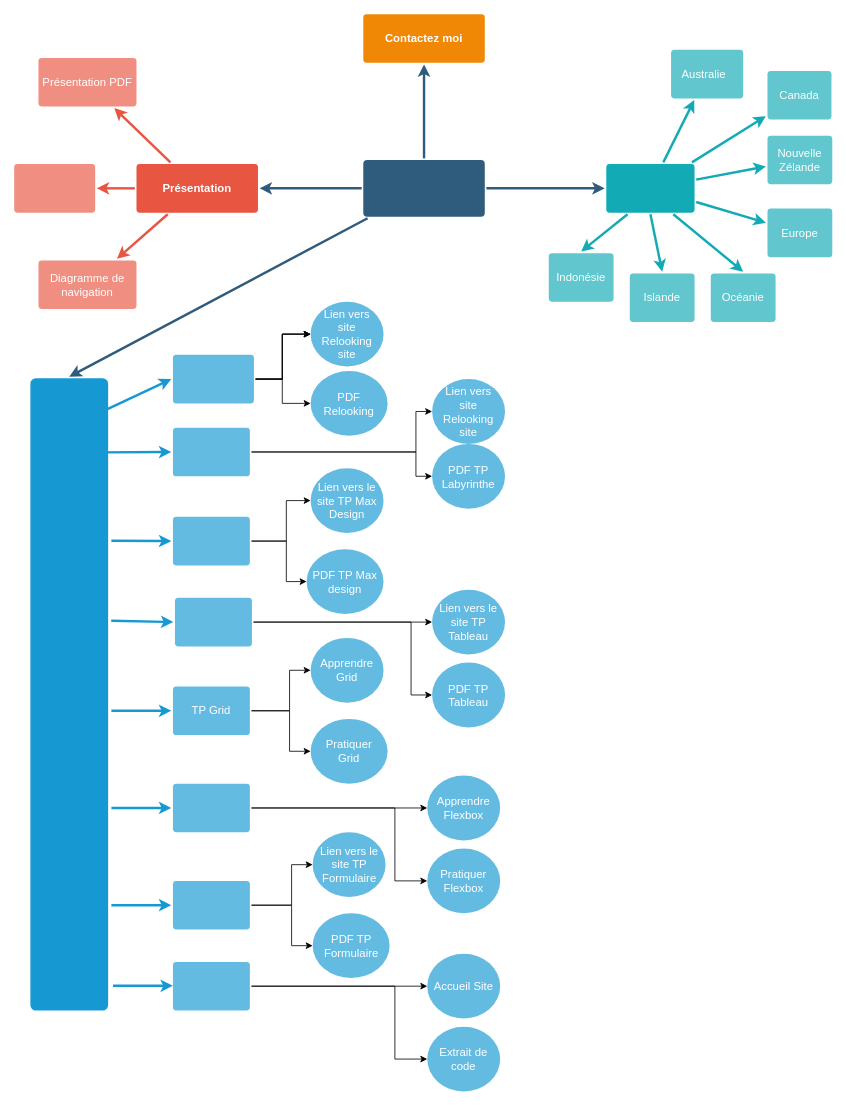
Image size: 846x1105. Some labels were removed from this diagram. The shapes that lost their labels are listed below. From the top down, each one's centre as x and y in pixels, then its label:
At pixel 54 188: "CV".
At pixel 423 188: "Site Internet Index.html".
At pixel 650 188: "Photographie".
At pixel 213 378: "Eval Relooking site".
At pixel 211 451: "TP Labyrinthe".
At pixel 211 540: "TP Max Design".
At pixel 213 621: "TP Tableau".
At pixel 69 694: "Codage".
At pixel 211 807: "TP Flexbox".
At pixel 211 904: "TP Formulaire".
At pixel 211 985: "CREATION D'UN SITE".
